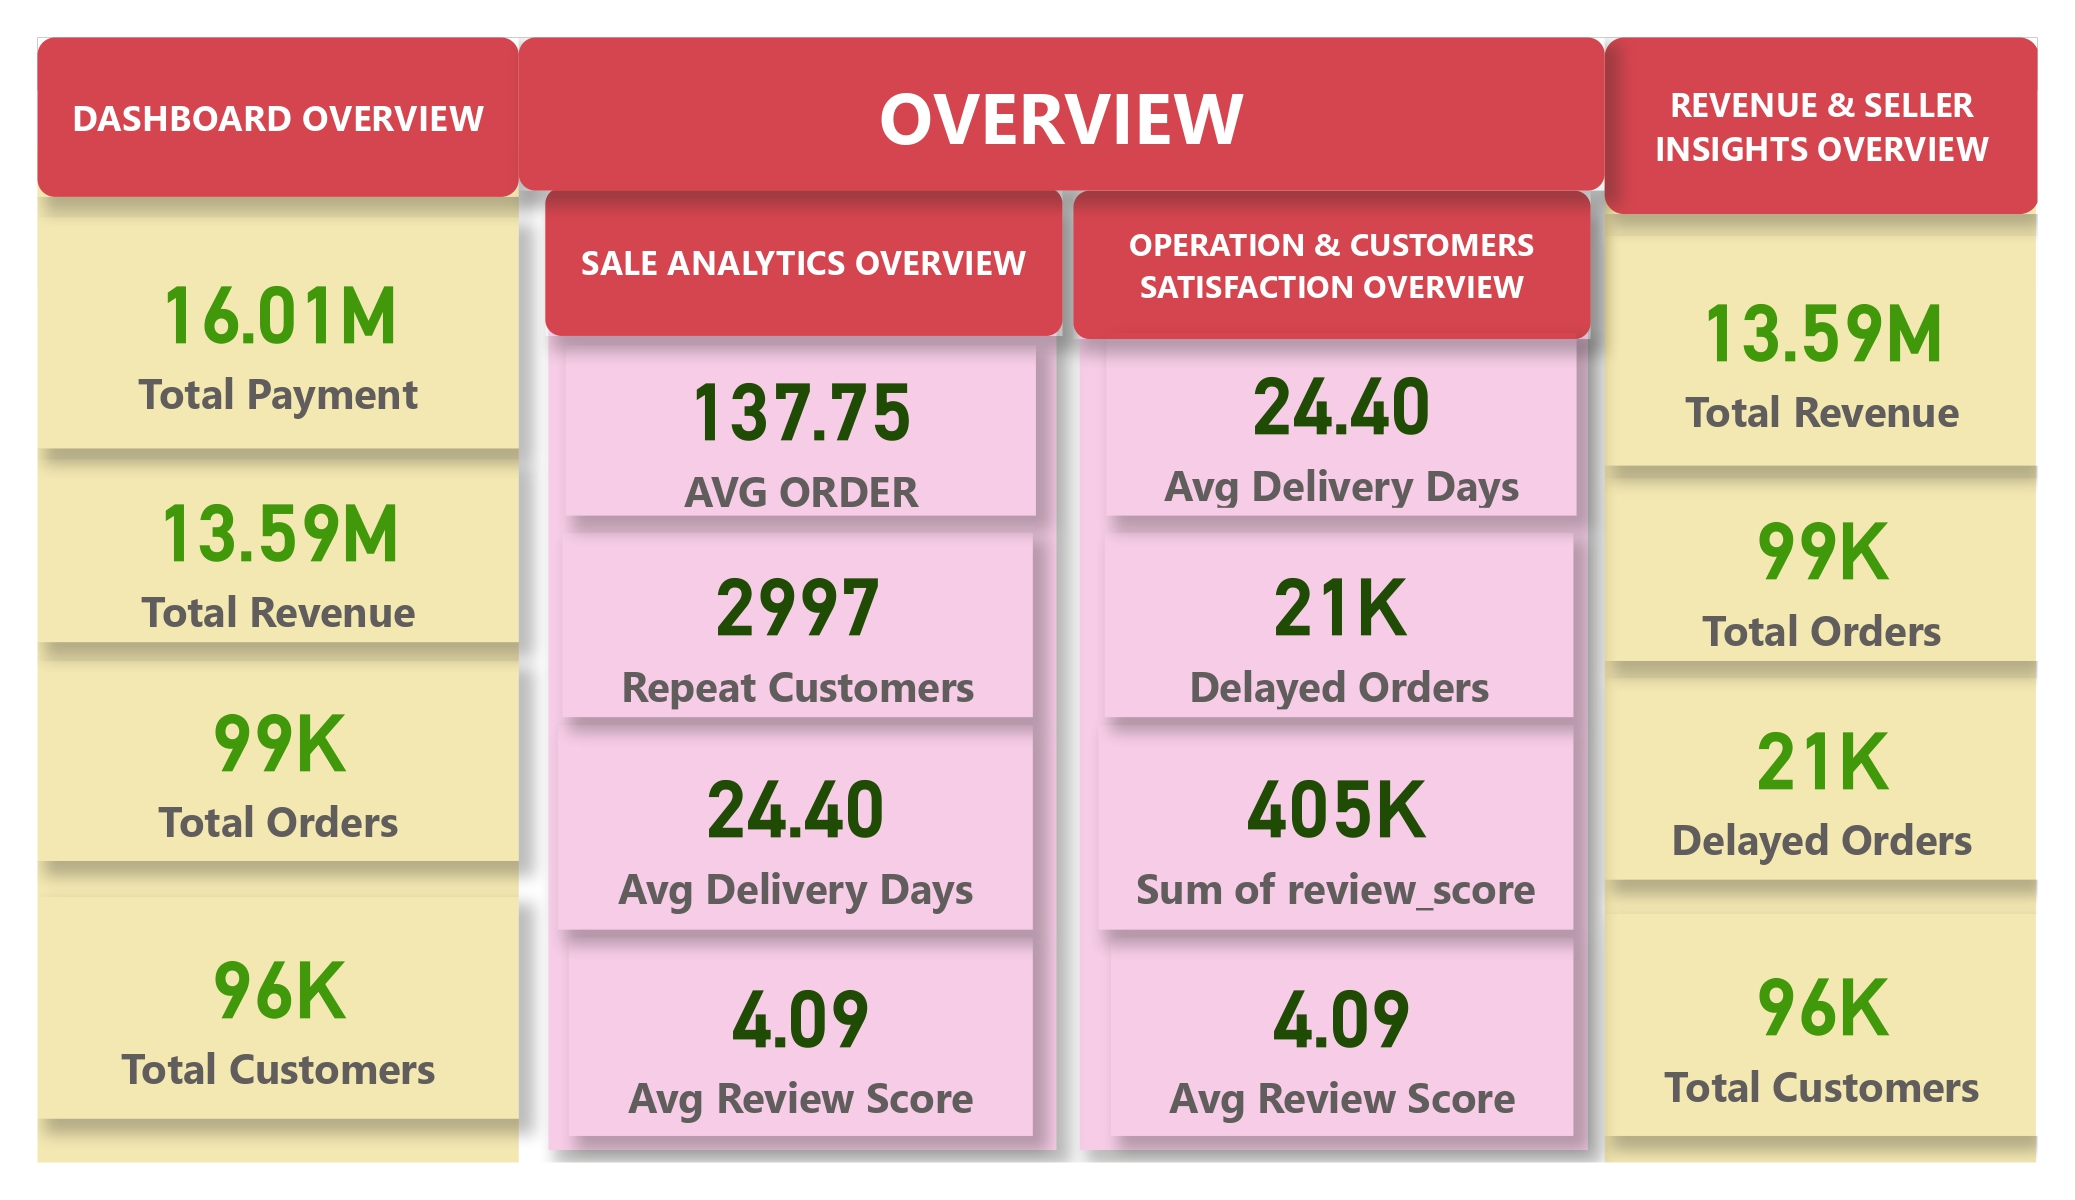

The dashboard page shown, as its layout file describes it:
{"tool":"powerbi","page":{"name":"OVERVIEW","canvas":[1280,720],"ordinal":4},"visuals":[{"type":"shape","box":[0,69.9,308,650.1],"z":0},{"type":"shape","box":[326.9,107.7,325,604.7],"z":1000},{"type":"card","fields":{"Values":["Measure Table.Total Revenue"]},"box":[0,270.2,308,117.2],"z":2000},{"type":"shape","box":[0,0,308,102],"z":3000},{"type":"shape","box":[325,96.4,330.7,94.5],"z":4000},{"type":"card","fields":{"Values":["DateTable.Total Orders"]},"box":[0,398.7,308,128.5],"z":5000},{"type":"card","fields":{"Values":["DateTable.Total Customers"]},"box":[0,549.9,308,141.7],"z":6000},{"type":"card","fields":{"Values":["DateTable.Total Payment"]},"box":[0,115.3,308,147.4],"z":7000},{"type":"card","fields":{"Values":["DateTable.AVG ORDER"]},"box":[338.3,196.5,300.5,109.6],"z":8000},{"type":"card","fields":{"Values":["DateTable.Repeat Customers"]},"box":[336.4,317.5,300.5,117.2],"z":9000},{"type":"card","fields":{"Values":["DateTable.Avg Review Score"]},"box":[340.2,576.4,296.7,126.6],"z":10000},{"type":"card","fields":{"Values":["DateTable.Avg Delivery Days"]},"box":[332.6,440.3,304.3,130.4],"z":11000},{"type":"shape","box":[667.1,107.7,325,604.7],"z":12000},{"type":"shape","box":[663.3,98.3,330.7,94.5],"z":13000},{"type":"card","fields":{"Values":["DateTable.Avg Delivery Days"]},"box":[684.1,189,300.5,117.2],"z":14000},{"type":"card","fields":{"Values":["DateTable.Delayed Orders"]},"box":[682.8,317.4,300.5,117.2],"z":15000},{"type":"card","fields":{"Values":["DateTable.Avg Review Score"]},"box":[686.5,576.3,296.7,126.6],"z":16000},{"type":"card","fields":{"Values":["Sum(olist_order_reviews_dataset.review_score)"]},"box":[679,440.2,304.3,130.4],"z":17000},{"type":"shape","box":[1003.5,69.9,275.9,650.1],"z":18000},{"type":"card","fields":{"Values":["DateTable.Total Orders"]},"box":[1003.5,281.6,277.8,117.2],"z":19000},{"type":"shape","box":[1003.5,0,277.8,113.4],"z":20000},{"type":"card","fields":{"Values":["DateTable.Delayed Orders"]},"box":[1003.5,410.1,277.8,128.5],"z":21000},{"type":"card","fields":{"Values":["DateTable.Total Customers"]},"box":[1003.5,561.3,277.8,141.7],"z":22000},{"type":"card","fields":{"Values":["Measure Table.Total Revenue"]},"box":[1003.5,126.6,277.8,147.4],"z":23000},{"type":"shape","box":[308,0,695.4,98.3],"z":24000}]}

Visuals, with their boxes on the page's 1280x720 design canvas (x1, y1, x2, y2). These are canvas units, not pixel positions in the 2075x1200 screenshot, which may show the page scaled, cropped or inside an application window:
shape: bbox=[0, 70, 308, 720]
shape: bbox=[327, 108, 652, 712]
card - Measure Table.Total Revenue: bbox=[0, 270, 308, 387]
shape: bbox=[0, 0, 308, 102]
shape: bbox=[325, 96, 656, 191]
card - DateTable.Total Orders: bbox=[0, 399, 308, 527]
card - DateTable.Total Customers: bbox=[0, 550, 308, 692]
card - DateTable.Total Payment: bbox=[0, 115, 308, 263]
card - DateTable.AVG ORDER: bbox=[338, 196, 639, 306]
card - DateTable.Repeat Customers: bbox=[336, 318, 637, 435]
card - DateTable.Avg Review Score: bbox=[340, 576, 637, 703]
card - DateTable.Avg Delivery Days: bbox=[333, 440, 637, 571]
shape: bbox=[667, 108, 992, 712]
shape: bbox=[663, 98, 994, 193]
card - DateTable.Avg Delivery Days: bbox=[684, 189, 985, 306]
card - DateTable.Delayed Orders: bbox=[683, 317, 983, 435]
card - DateTable.Avg Review Score: bbox=[686, 576, 983, 703]
card - Sum(olist_order_reviews_dataset.review_score): bbox=[679, 440, 983, 571]
shape: bbox=[1004, 70, 1279, 720]
card - DateTable.Total Orders: bbox=[1004, 282, 1281, 399]
shape: bbox=[1004, 0, 1281, 113]
card - DateTable.Delayed Orders: bbox=[1004, 410, 1281, 539]
card - DateTable.Total Customers: bbox=[1004, 561, 1281, 703]
card - Measure Table.Total Revenue: bbox=[1004, 127, 1281, 274]
shape: bbox=[308, 0, 1003, 98]
